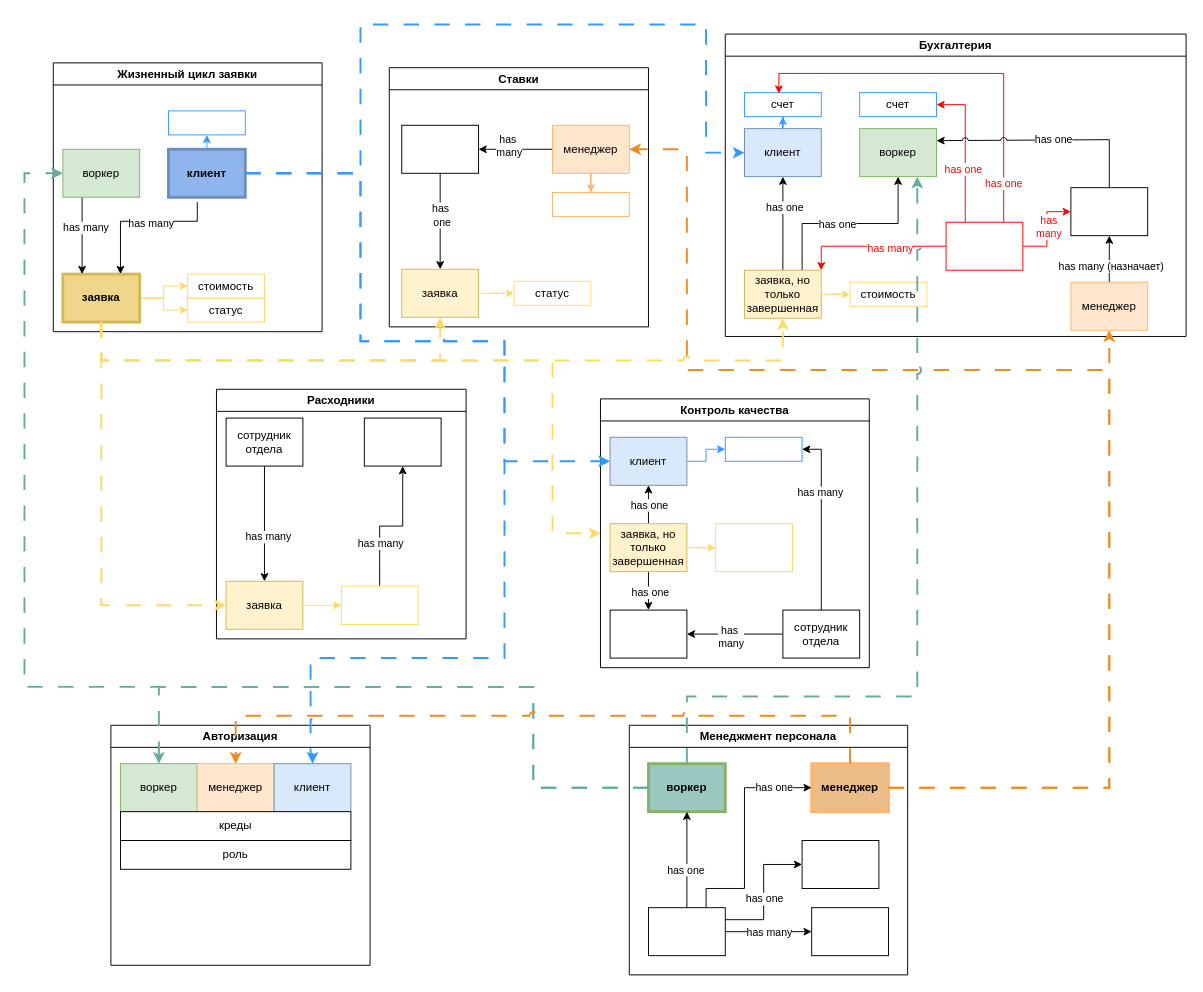
Image size: 1203x992. Some labels were removed from this diagram. The centre of each missing label's shape, as x and y in pixels:
"инвойс" goes at pixel 984 245.
"номер телефона" goes at pixel 763 448.
"персона" goes at pixel 206 122.
"премия" goes at pixel 1109 211.
"расходники (инвента- ризация)" goes at pixel 402 441.
"результат" goes at pixel 840 864.
"результат проверки" goes at pixel 648 633.
"ставка" goes at pixel 440 148.
"статус, но без активных" goes at pixel 753 547.
"тест" goes at pixel 849 931.
"тестирование" goes at pixel 686 931.
"требования расходников" goes at pixel 379 604.
"число побед" goes at pixel 590 204.
